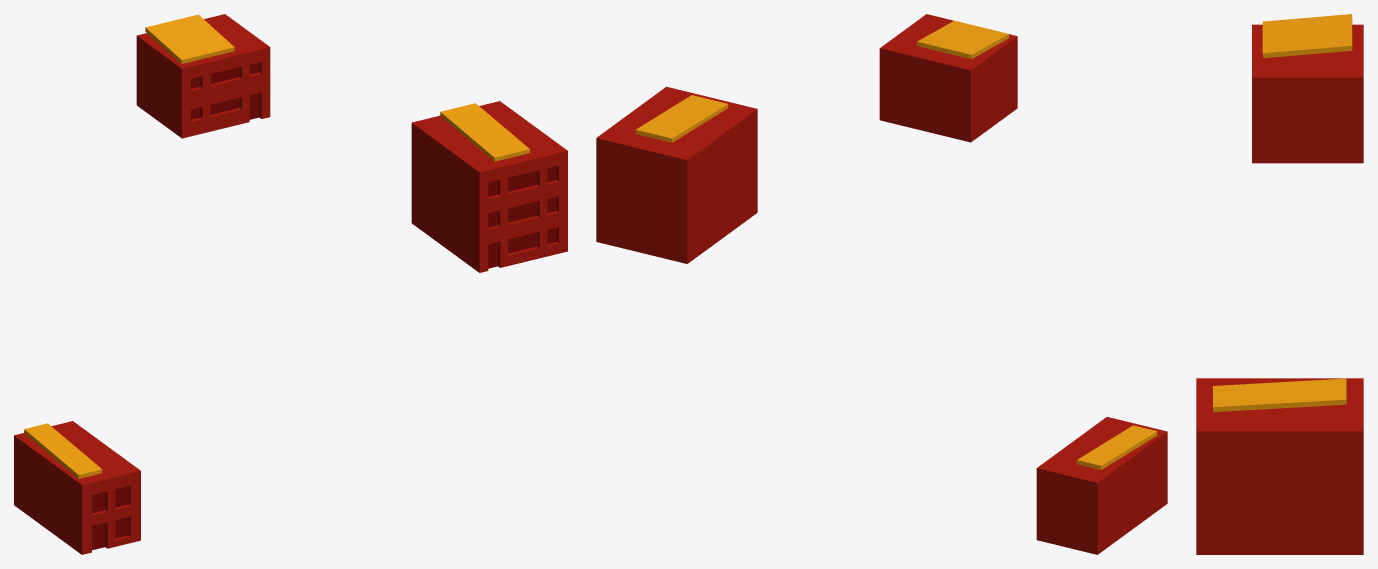
File: BinaGrup12.gltf
3 views of the same model, side by side, from view 1: azimuth 30°, elevation 25°; view 2: azimuth 150°, elevation 25°; view 3: azimuth 270°, elevation 25° (orthographic). The views are drawn at different scales.
Parts seen in each view (by area): view 1: Building_065.003, Building_045.003, Building_050.003, Building_050_RoofCap_0.001, Building_065_RoofCap_0.001, Building_065.005, Building_045_RoofCap_0.001, Building_050.005, Building_045.005; view 2: Building_065.003, Building_045.003, Building_050.003, Building_065_RoofCap_0.001, Building_050_RoofCap_0.001, Building_045_RoofCap_0.001; view 3: Building_065.003, Building_050.003, Building_065_RoofCap_0.001, Building_050_RoofCap_0.001.
Part boxes in pixels (bbox=[...]): Building_065.003: bbox=[411, 101, 567, 272]; Building_045.003: bbox=[14, 421, 140, 554]; Building_050.003: bbox=[136, 14, 270, 138]; Building_050_RoofCap_0.001: bbox=[145, 14, 234, 63]; Building_065_RoofCap_0.001: bbox=[440, 103, 529, 161]; Building_065.005: bbox=[488, 166, 556, 253]; Building_045_RoofCap_0.001: bbox=[24, 423, 102, 478]; Building_050.005: bbox=[191, 62, 259, 119]; Building_045.005: bbox=[92, 486, 128, 538]; Building_065.003: bbox=[596, 86, 757, 263]; Building_045.003: bbox=[1036, 417, 1167, 554]; Building_050.003: bbox=[879, 14, 1017, 142]; Building_065_RoofCap_0.001: bbox=[635, 95, 728, 142]; Building_050_RoofCap_0.001: bbox=[917, 20, 1008, 59]; Building_045_RoofCap_0.001: bbox=[1077, 425, 1157, 469]; Building_065.003: bbox=[1196, 378, 1363, 554]; Building_050.003: bbox=[1252, 24, 1363, 163]; Building_065_RoofCap_0.001: bbox=[1213, 378, 1346, 412]; Building_050_RoofCap_0.001: bbox=[1262, 14, 1352, 58].
Bounding box in the file's own units: 0.269 × 0.2382 × 0.0652.
